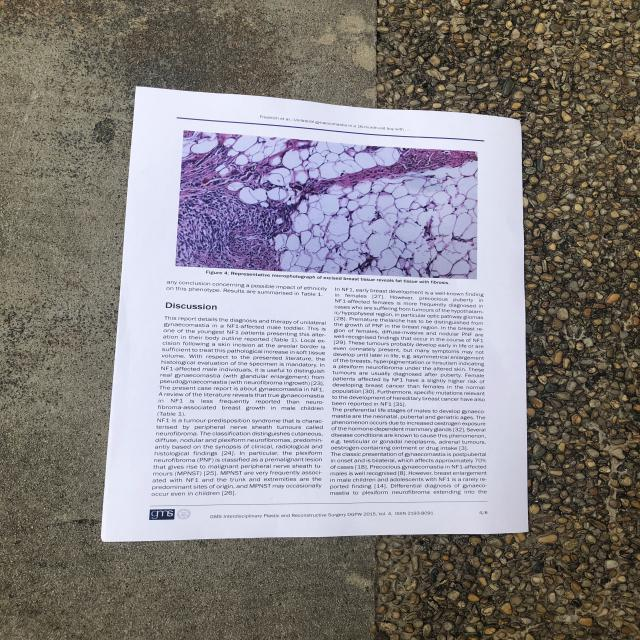document: (102, 88, 528, 541)
